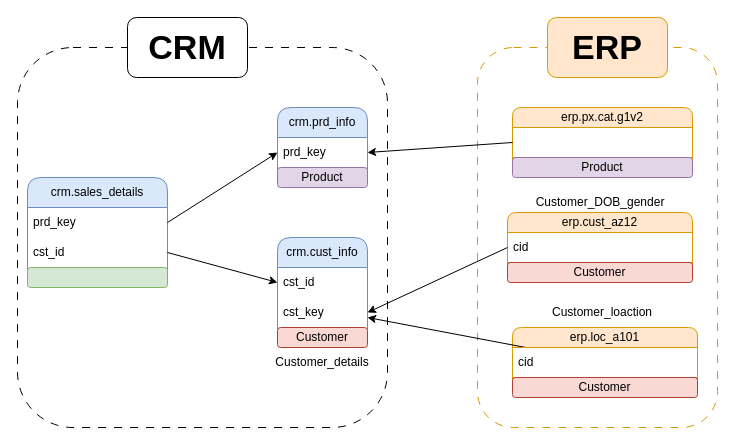
The diagram is 735 pixels wide and 445 high, and some of its shapes have lost their labels. Each missing label, with the centre of its shape:
"id" goes at [602,142].
"Sales" goes at [97,277].
